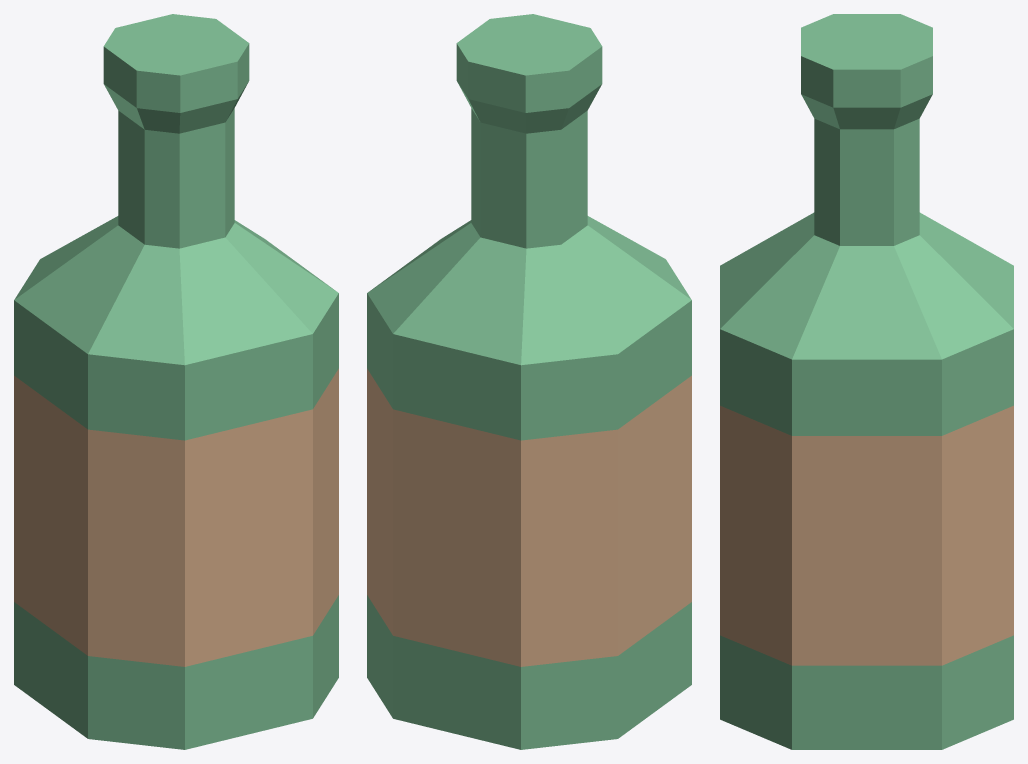
File: bouteille_pirate.glb
3 views of the same model, side by side, from view 1: azimuth 30°, elevation 25°; view 2: azimuth 150°, elevation 25°; view 3: azimuth 270°, elevation 25° (orthographic).
Parts seen in each view (by area): view 1: bouteille_pirate_assimp; view 2: bouteille_pirate_assimp; view 3: bouteille_pirate_assimp.
Part boxes in pixels (x1,y1,x2,y2): bouteille_pirate_assimp: (14,14,338,749); bouteille_pirate_assimp: (367,14,691,749); bouteille_pirate_assimp: (720,14,1013,749).
Bounding box in the file's own units: 1.74 × 4.22 × 1.74.
